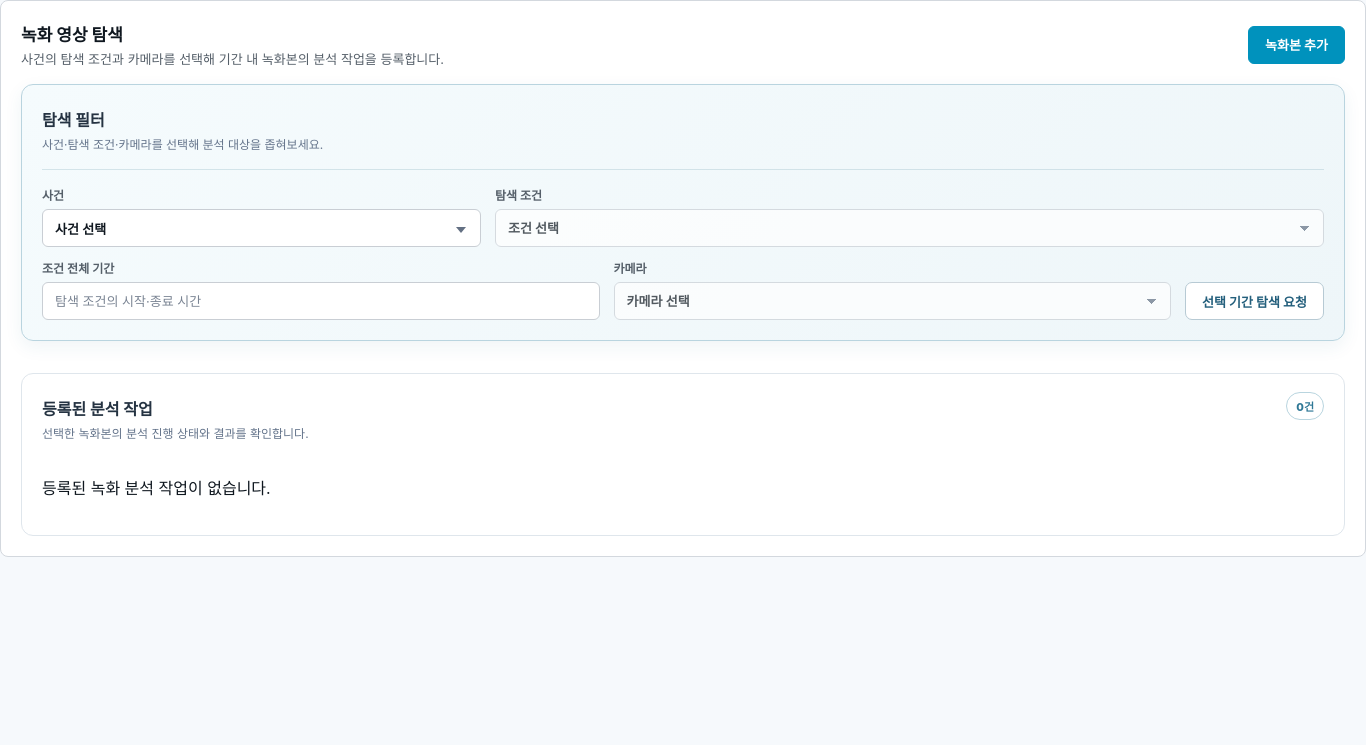
Test: RecordingSearchView › loads the selected camera recordings and registers every target
Click the button with class "case-picker-trigger" at point(81, 229), box [42,209,481,247]
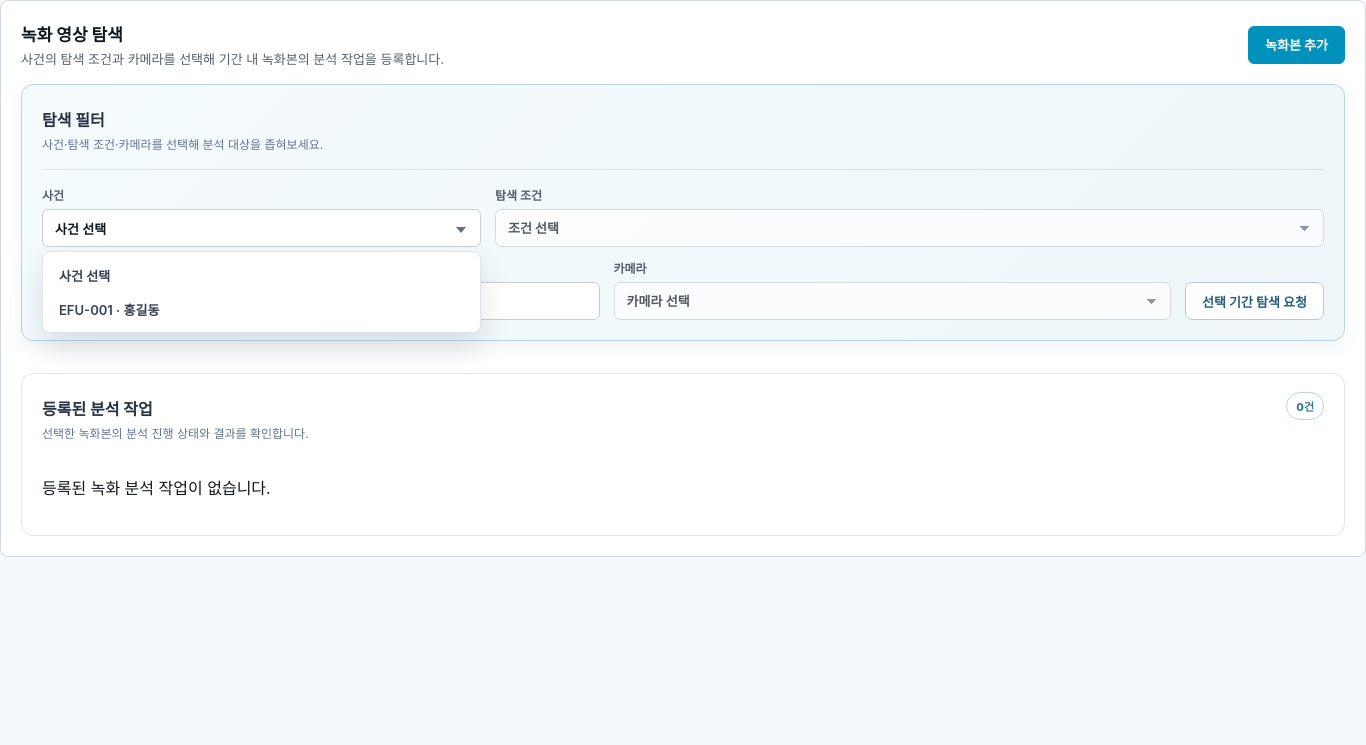
Click the button with class "case-picker-option" showing "EFU-001 · 홍길동" at point(109, 310), box [49,292,474,326]
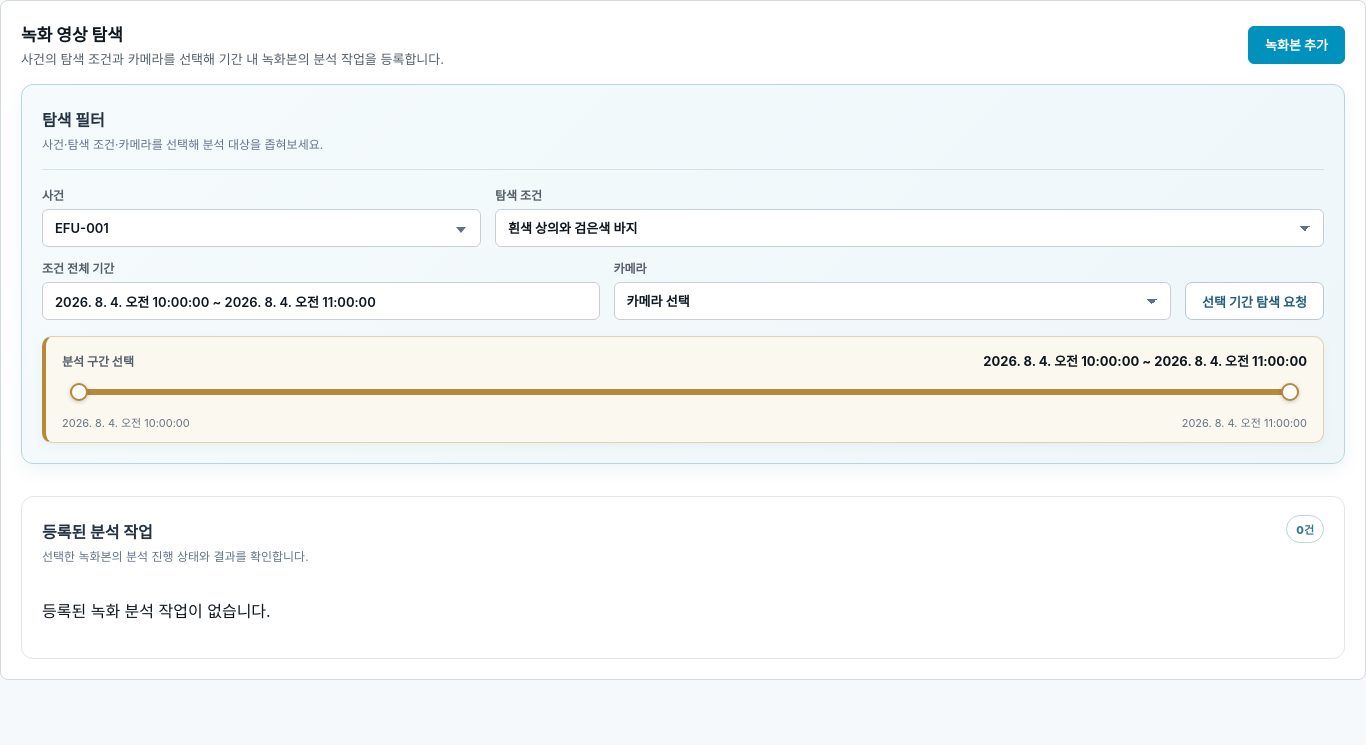
Expected: the element with class "analysis-range-control" is shown, [42,336,1324,443]
Expected: the slider with class "analysis-range-start" holds "0", [70,378,1299,406]
Expected: the slider with class "analysis-range-end" holds "60", [70,378,1299,406]
Select "camera-04 · 정문 카메라" in the dropdown labelled "카메라" at point(892, 301), box [614,282,1171,320]
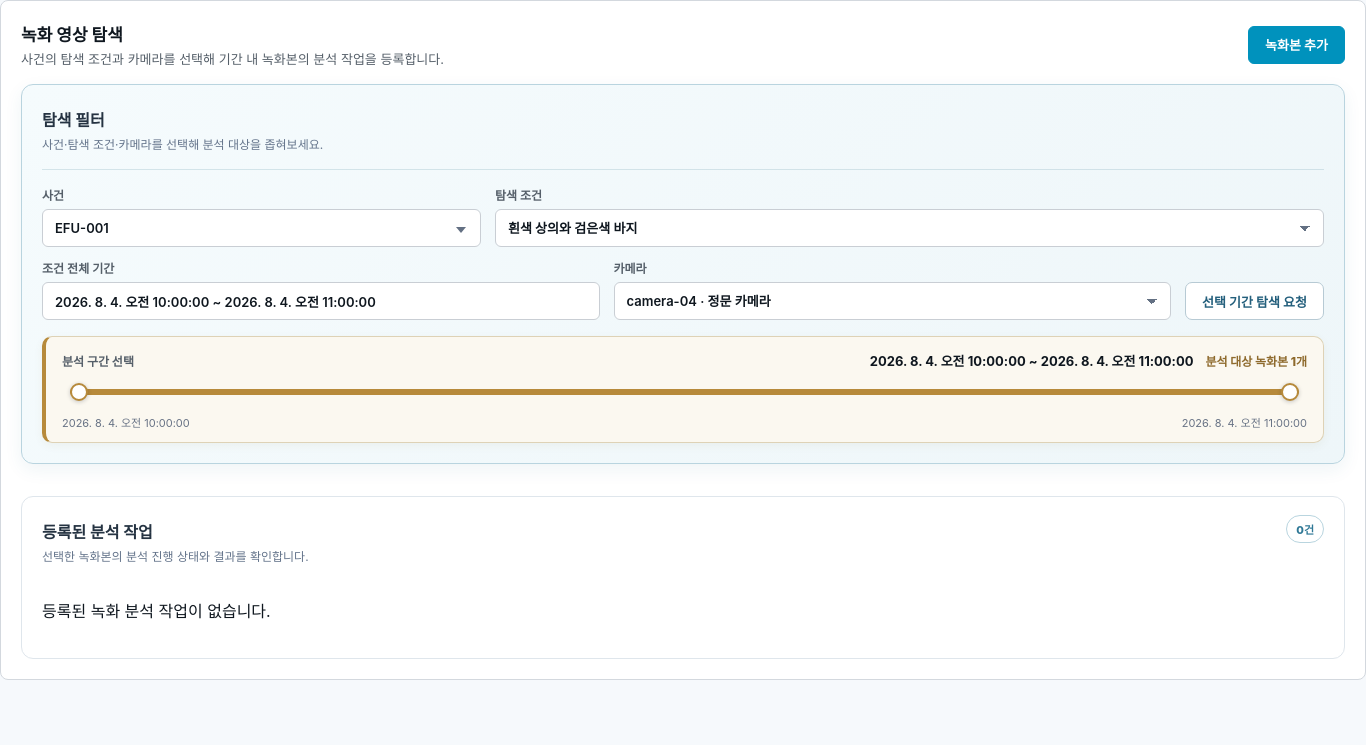
Expected: the text "분석 대상 녹화본 1개" is shown, [1206,352,1307,369]
Click the button with class "search-button" at point(1255, 301), box [1185,282,1324,320]
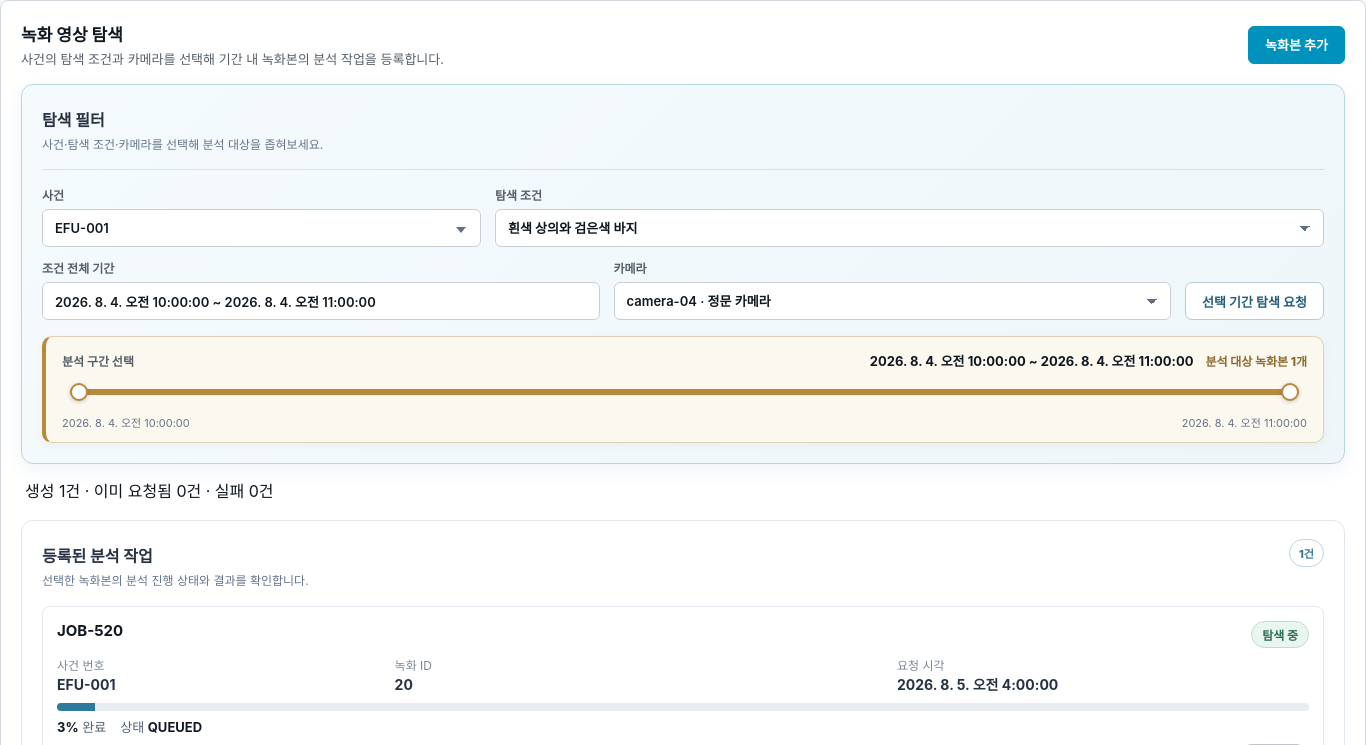
Expected: the text "생성 1건 · 이미 요청됨 0건 · 실패 0건" is shown, [25,481,274,501]
Expected: the text "JOB-520" is shown, [57,621,123,641]
